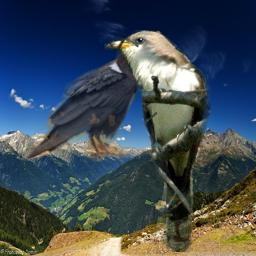Crow: (21, 44, 159, 166)
Cuckoo: (104, 30, 211, 252)
